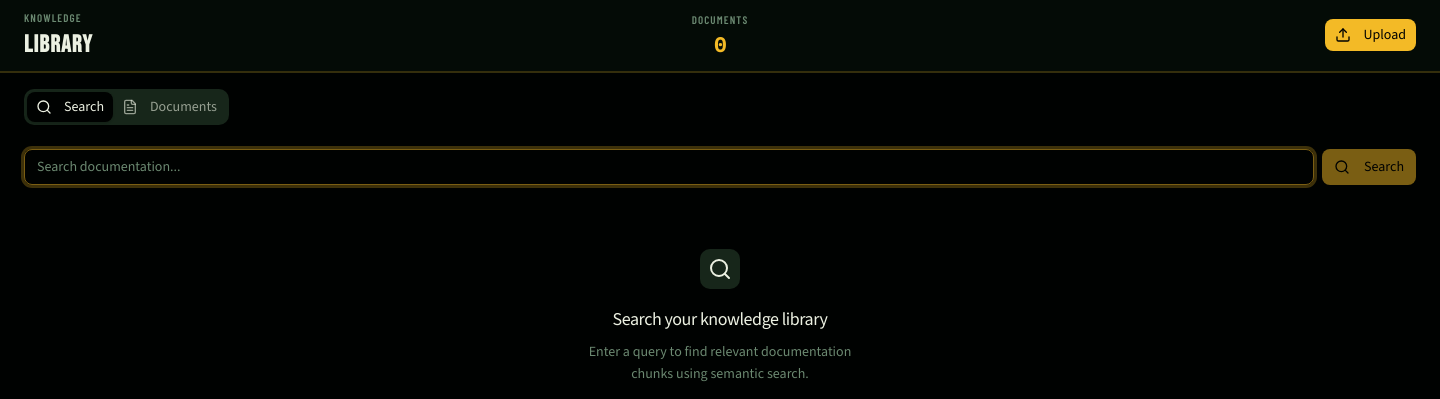
Test: KnowledgePage › shows empty state in Documents tab when no documents
The image size is (1440, 399).
Click the tab "Documents".
click(169, 106)  # box left=113, top=92, right=226, bottom=122
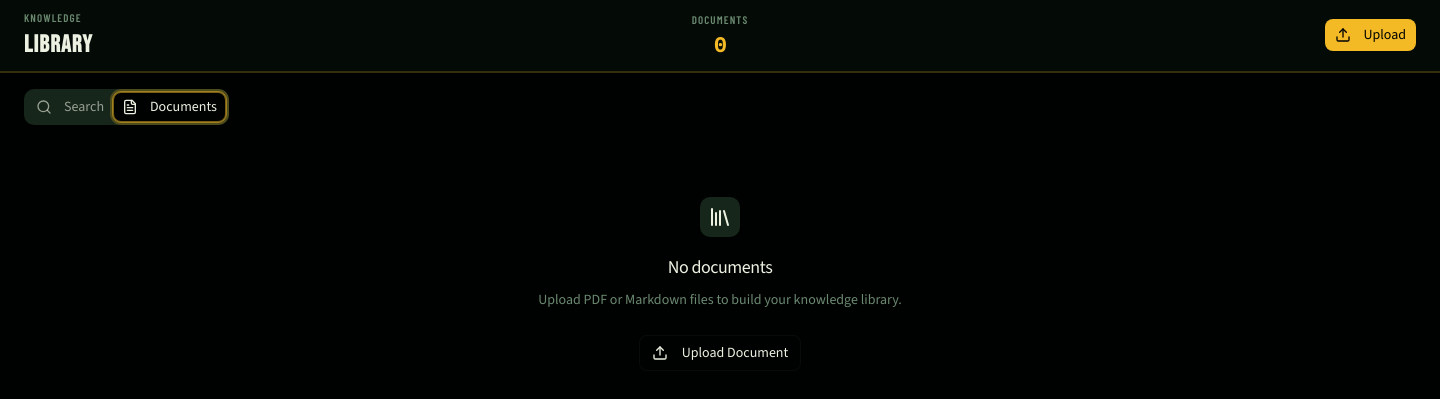
Check: the text "No documents" is shown, box left=668, top=252, right=772, bottom=280
